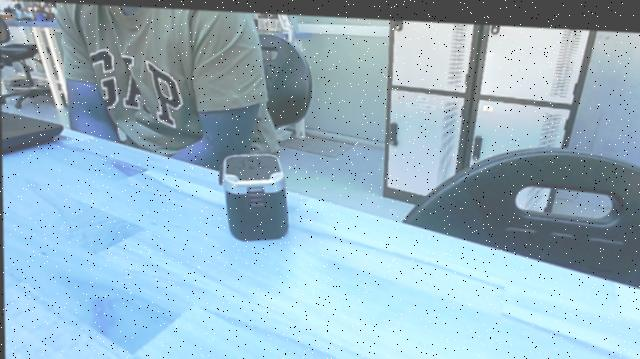adapter: (210, 143, 291, 241)
